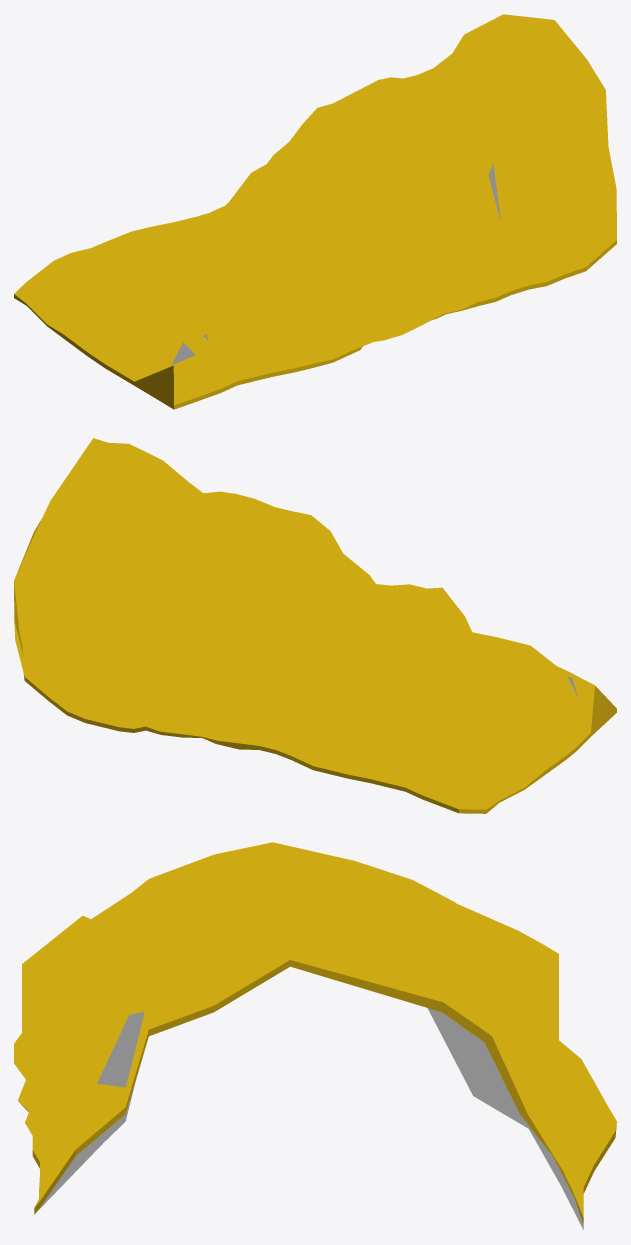
File: ЧЕловекСОдеялом.fbx
The picture shows the model from 3 angles, top to bottom: view 1: azimuth 30°, elevation 25°; view 2: azimuth 150°, elevation 25°; view 3: azimuth 270°, elevation 25°; orthographic projection. The views are drawn at different scales.
Parts seen in each view (by area): view 1: Cube; view 2: Cube; view 3: Cube.
Boxes of the visible parts, bbox=[...] form: Cube: bbox=[14, 14, 616, 409]; Cube: bbox=[14, 438, 616, 813]; Cube: bbox=[14, 842, 616, 1229].
Bounding box in the file's own units: 292 × 129 × 196.
